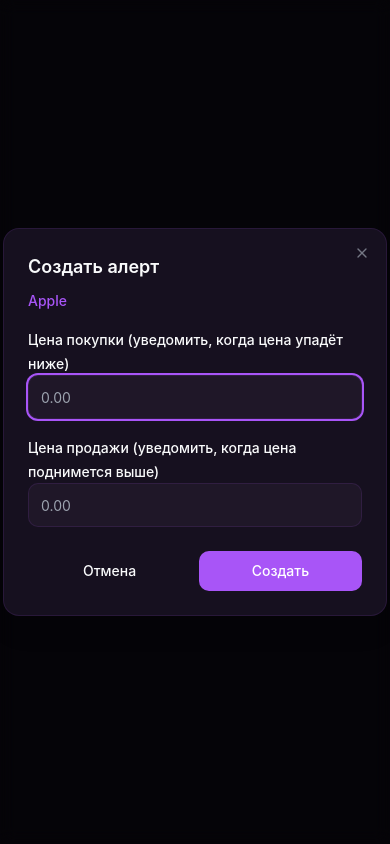
Test: AlertDialog — validation › shows error when buy price is zero
Type "0" into the field labelled "Цена покупки (уведомить, когда цена упадёт ниже)" at (195, 397), box x1=28 y1=375 x2=362 y2=419
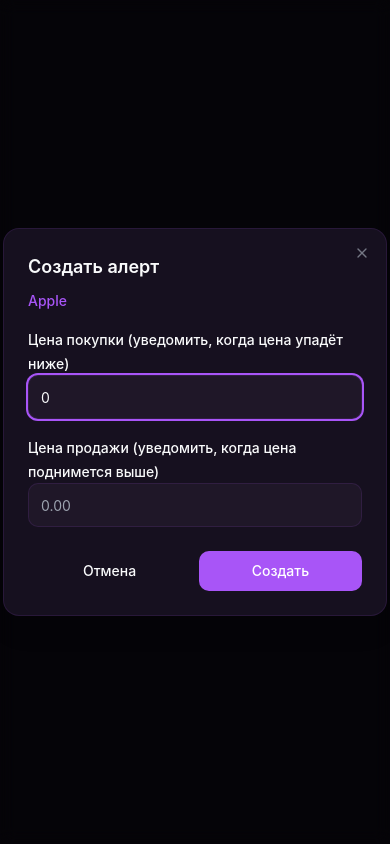
Type "100" into the field labelled "Цена продажи (уведомить, когда цена поднимется выше)" at (195, 505), box x1=28 y1=483 x2=362 y2=527
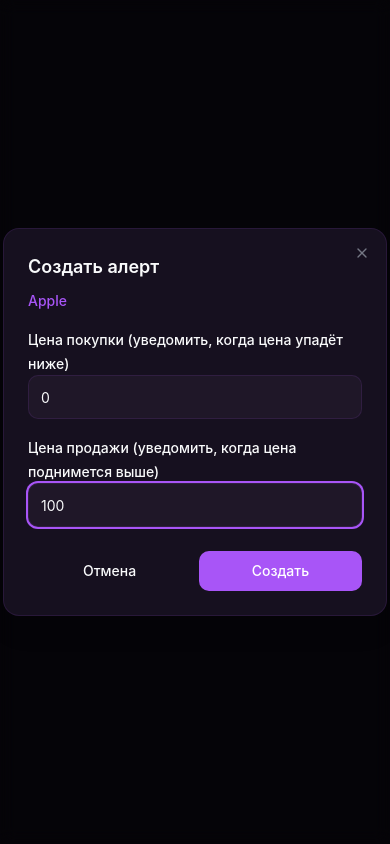
Click the button "Создать" at (280, 571), box x1=199 y1=551 x2=362 y2=591
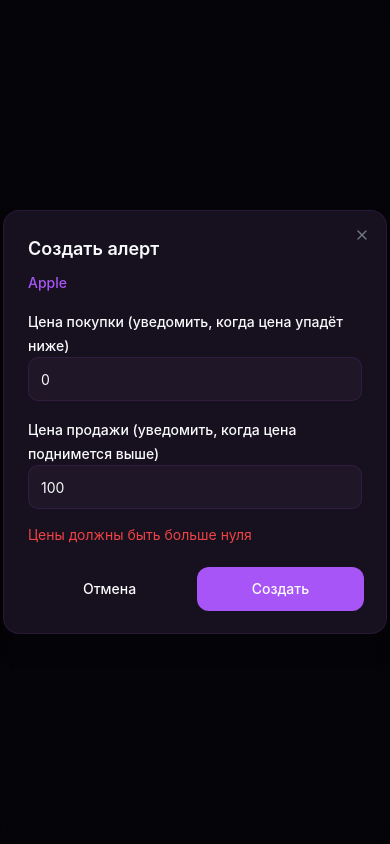
Result: the text "Цены должны быть больше нуля" is shown at x1=28 y1=526 x2=252 y2=543
